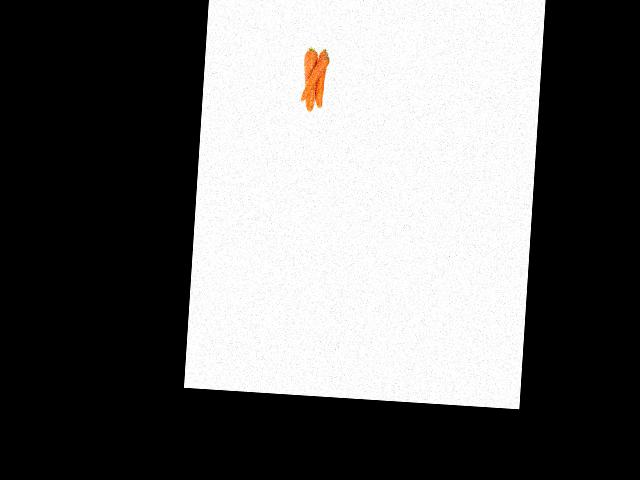carrot: (312, 44, 329, 110)
